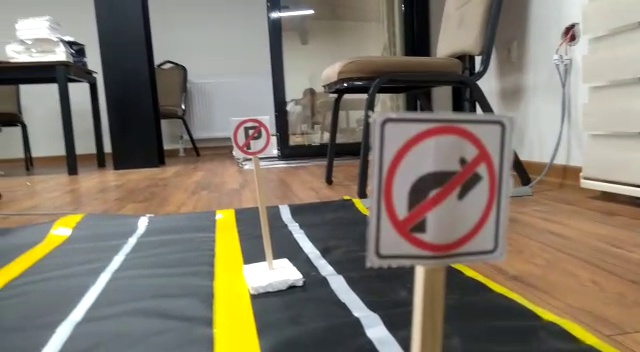park_yapilmaz: (228, 118, 270, 157)
saga_donulmez: (377, 117, 502, 255)
